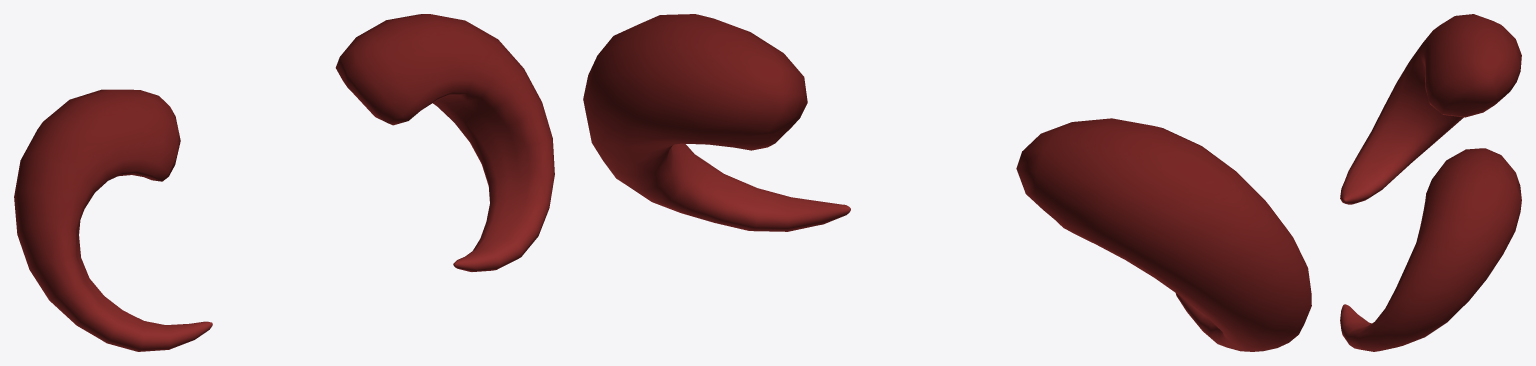
File: devil_horn2.fbx
The picture shows the model from 3 angles, left to right: view 1: azimuth 30°, elevation 25°; view 2: azimuth 150°, elevation 25°; view 3: azimuth 270°, elevation 25°; orthographic projection. The views are drawn at different scales.
Visible parts, largest first — view 1: horn2zremesh:polySurface1; view 2: horn2zremesh:polySurface1; view 3: horn2zremesh:polySurface1.
Part boxes in pixels (x1,y1,x2,y2): horn2zremesh:polySurface1: [14, 14, 554, 351]; horn2zremesh:polySurface1: [583, 14, 1311, 351]; horn2zremesh:polySurface1: [1340, 14, 1521, 351].
Size of the model in its own units: 2.92 by 1.09 by 1.01.
